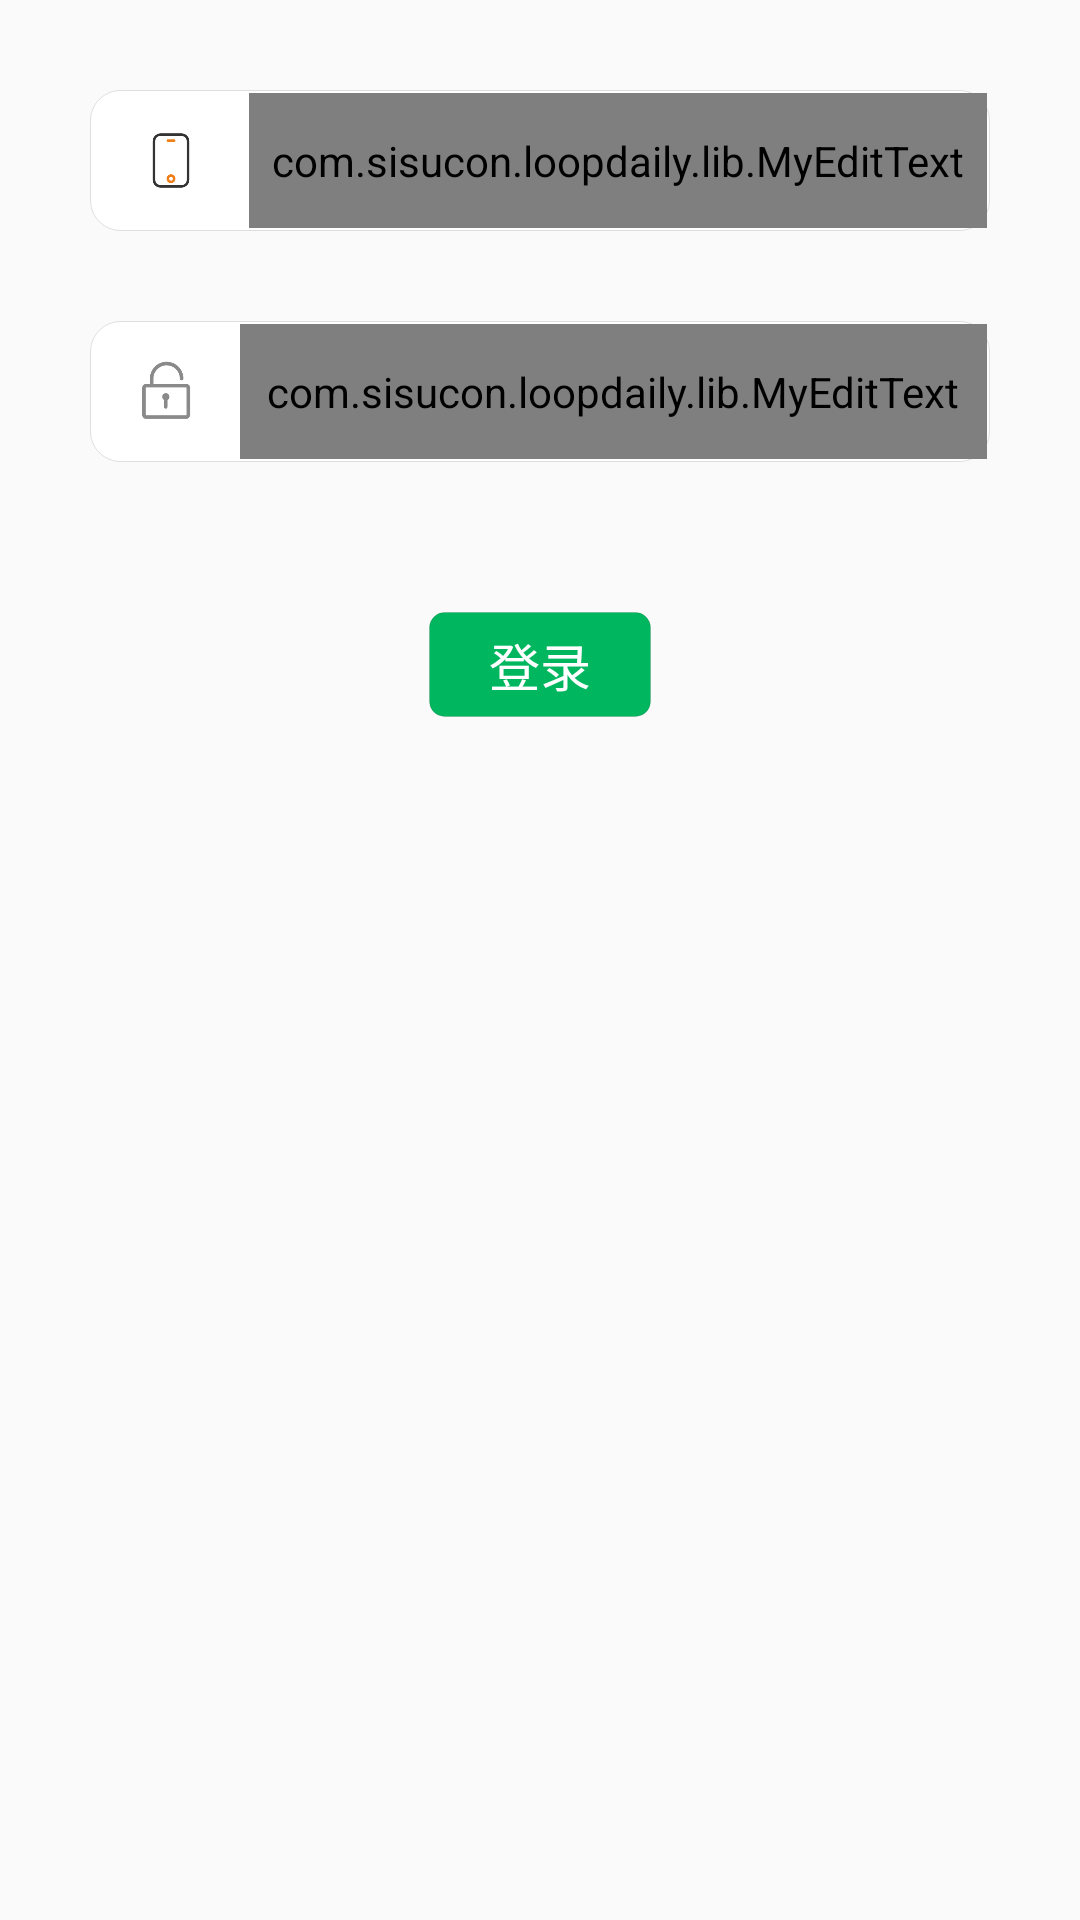

Locate icon controls on the screen. Image size 1080w x 1920h, boxes as (x1, y1, x2, y2).
password: (142, 362, 190, 419)
phone: (152, 133, 190, 188)
